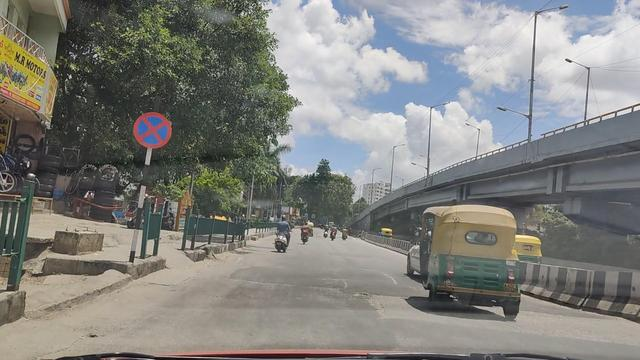LMV: (428, 202, 526, 318)
RoadDamages: (321, 287, 411, 308), (370, 267, 397, 283)
